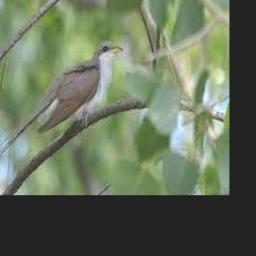Cuckoo: (0, 40, 124, 156)
